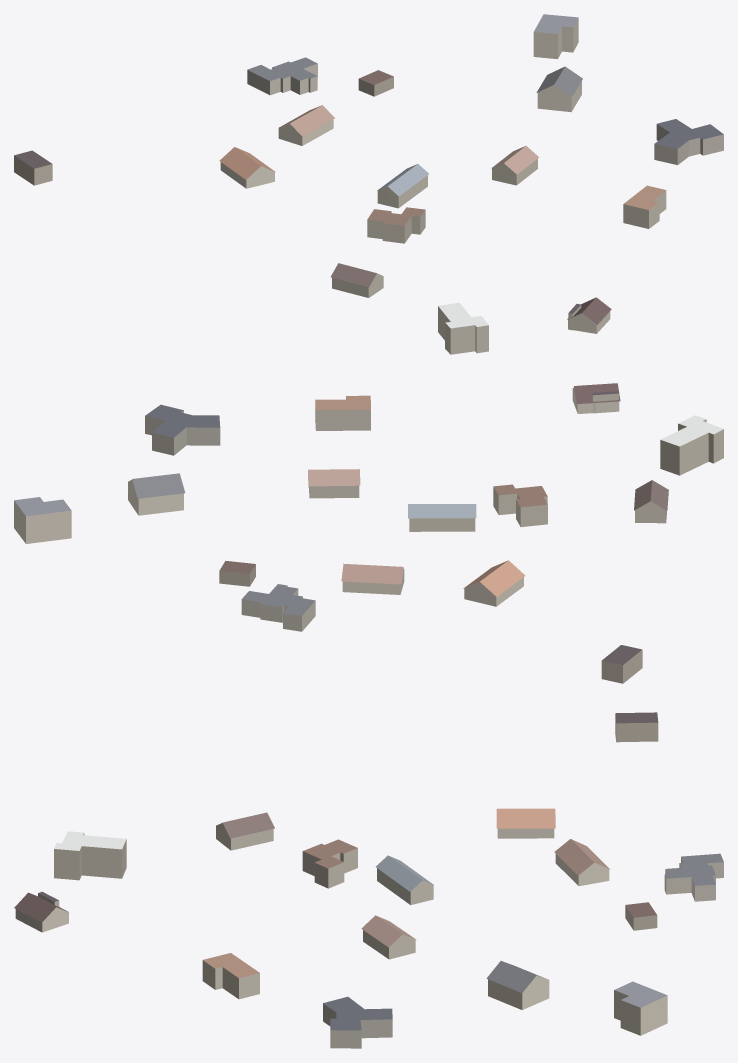
3 views of the same model, one above another, from view 1: azimuth 30°, elevation 25°; view 2: azimuth 150°, elevation 25°; view 3: azimuth 270°, elevation 25° (orthographic). The views are drawn at different scales.
Visible parts, largest first — view 1: tuile; view 2: tuile; view 3: tuile.
Part boxes in pixels (box(x1,y1,x2,y2)): tuile: box(14, 14, 723, 354); tuile: box(14, 383, 723, 683); tuile: box(14, 712, 723, 1048).
Size of the model in its own units: 210 by 19.91 by 205.
